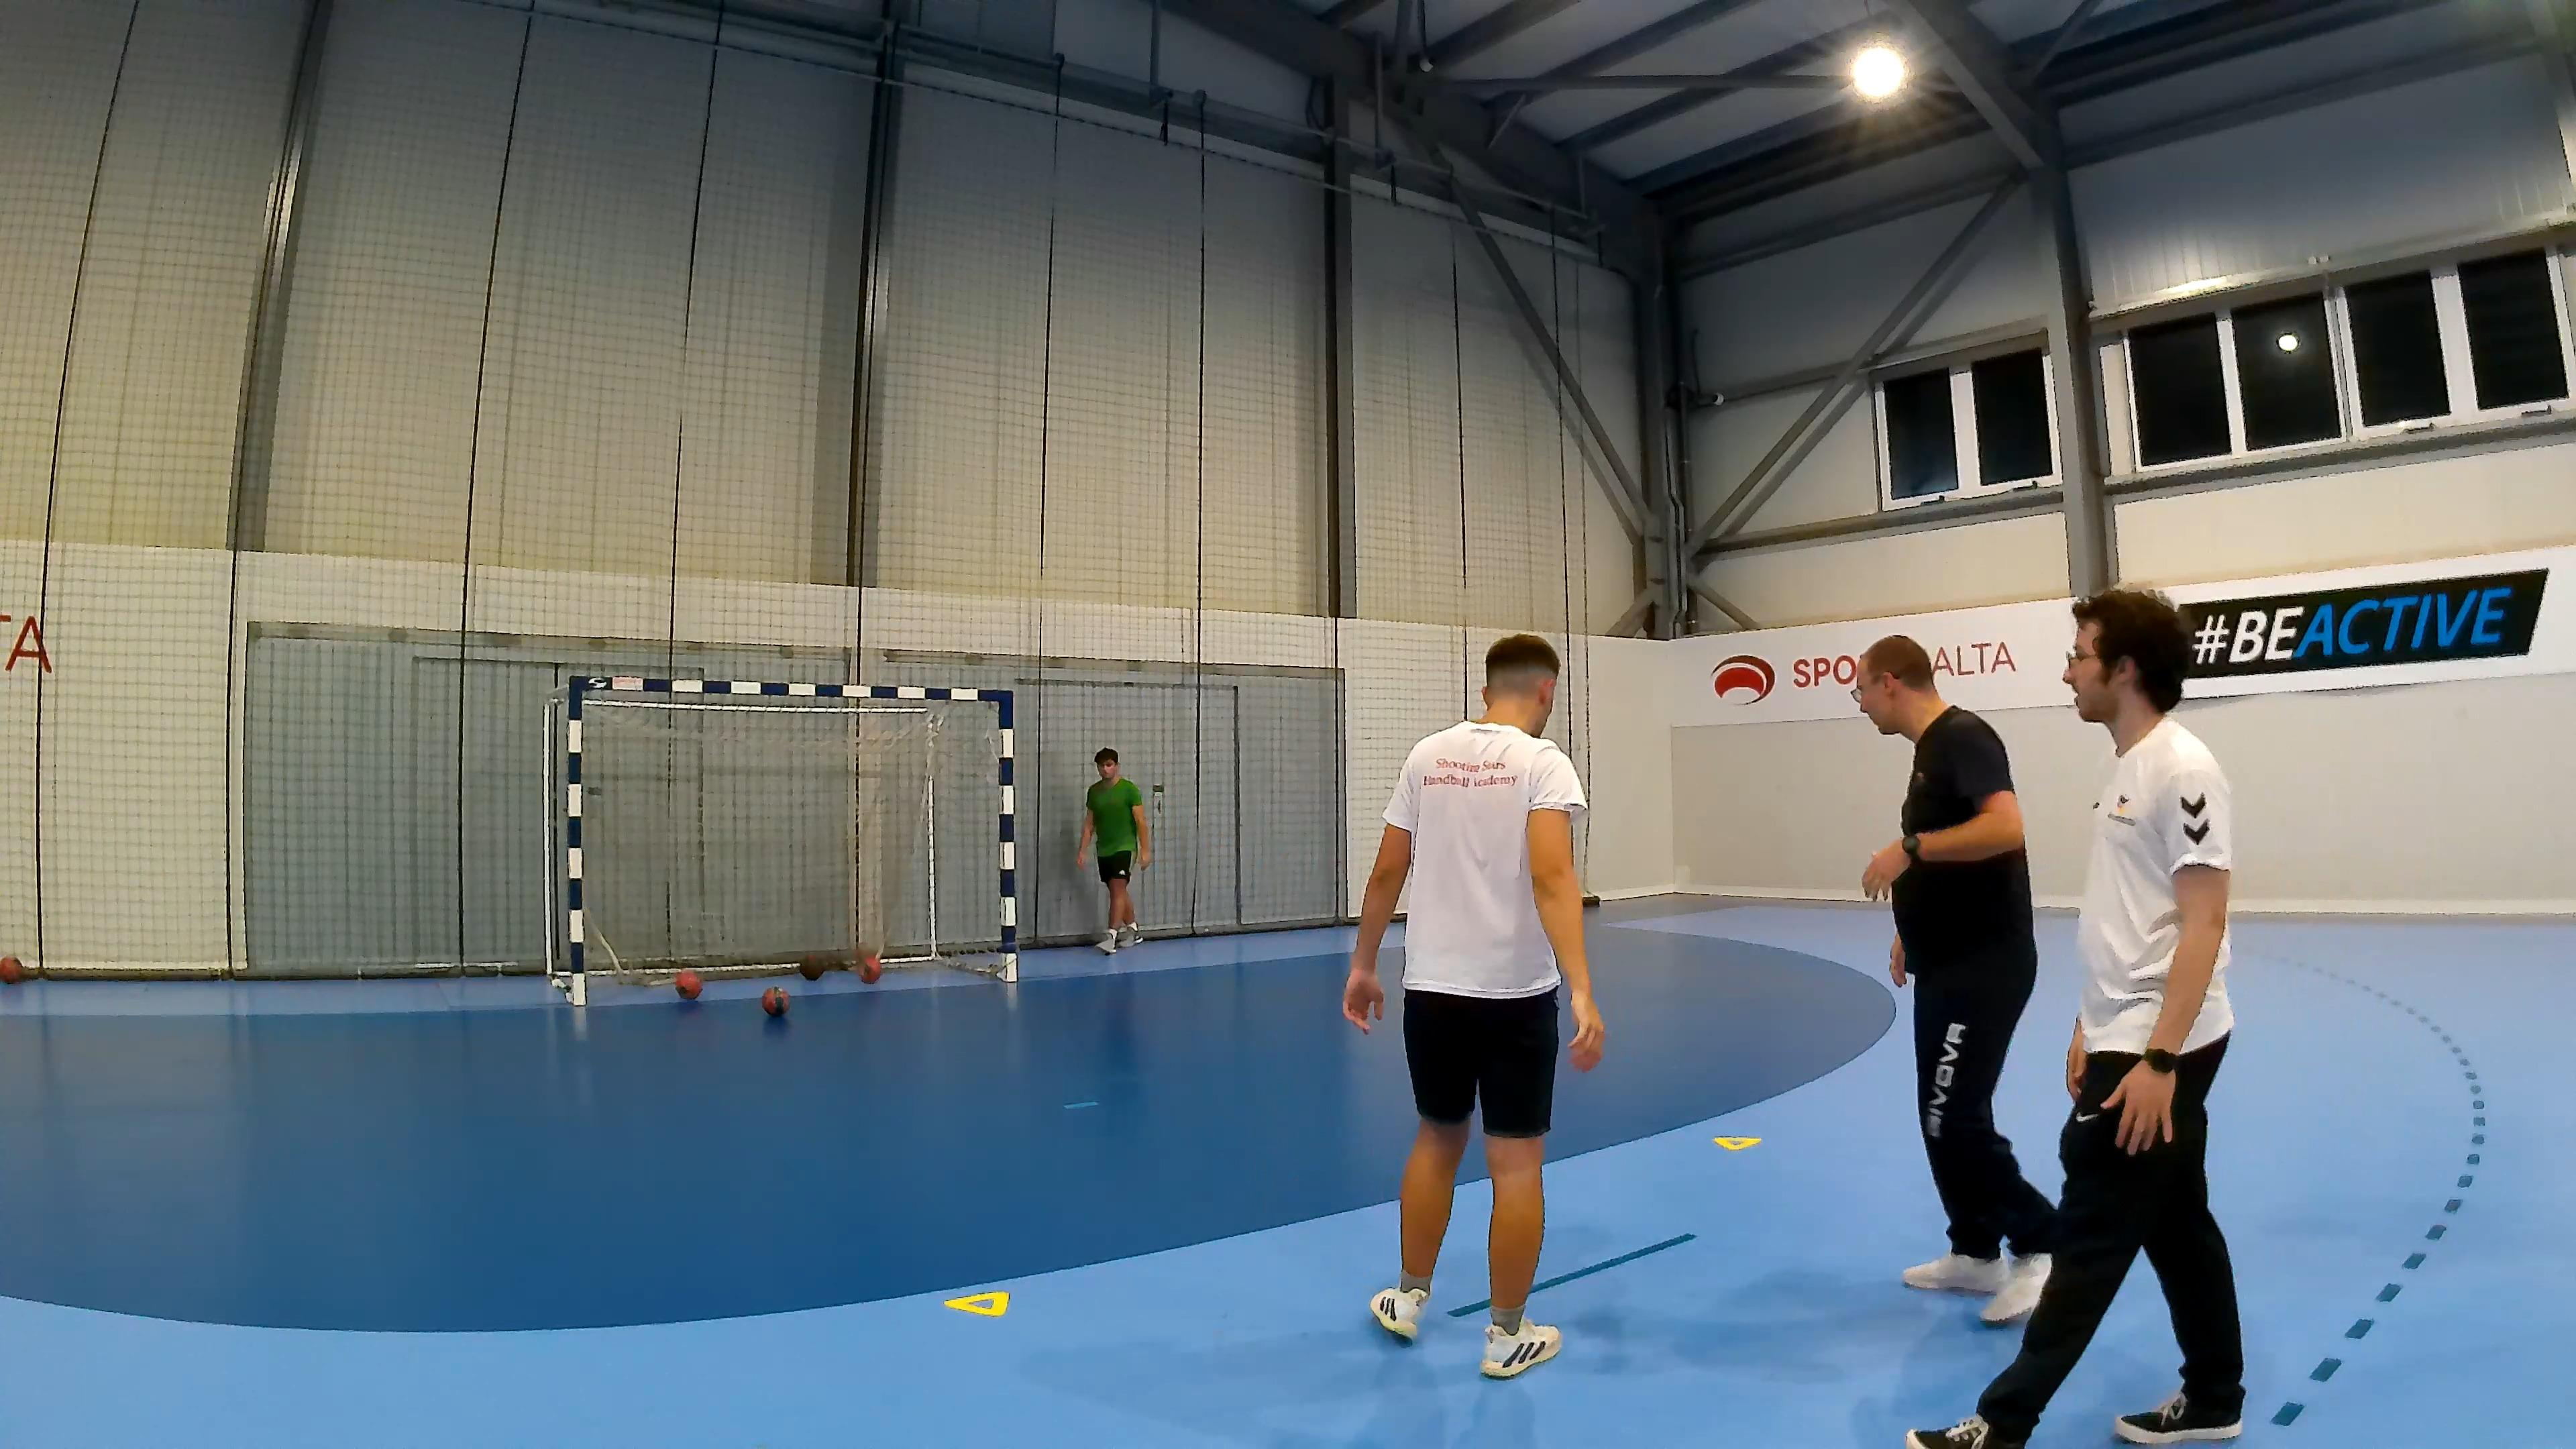handball: (761, 985, 789, 1016), (674, 970, 701, 998), (858, 952, 879, 982)
